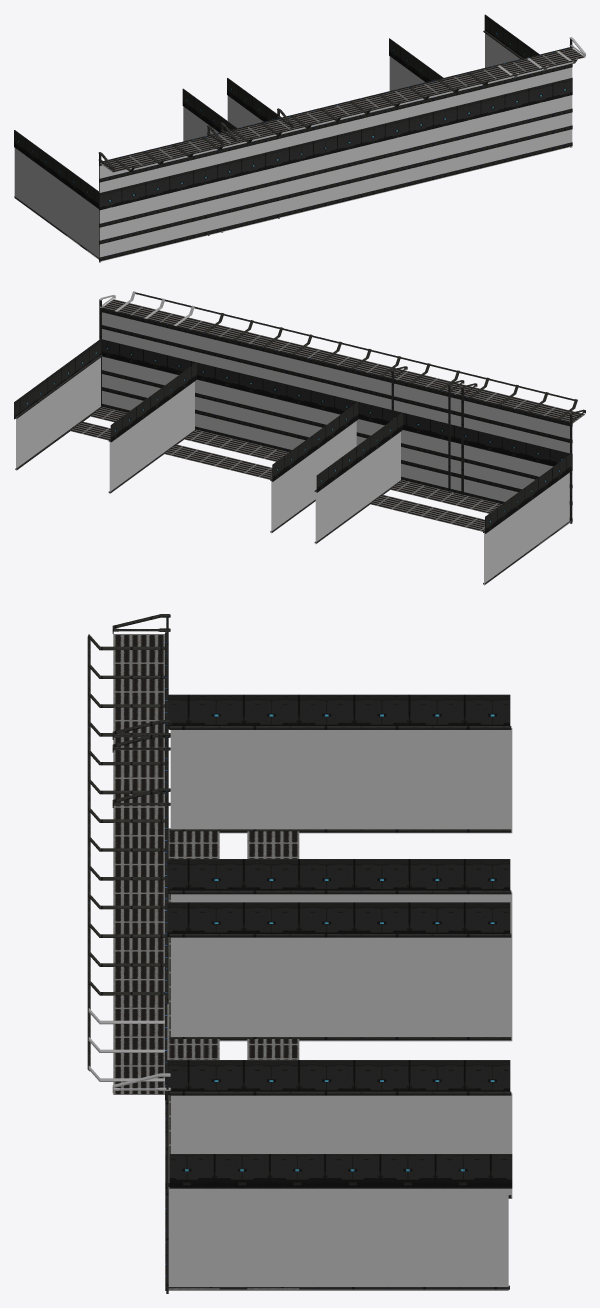
File: Ultra_wire2.fbx
The picture shows the model from 3 angles, top to bottom: view 1: azimuth 30°, elevation 25°; view 2: azimuth 150°, elevation 25°; view 3: azimuth 270°, elevation 25°; orthographic projection. The views are drawn at different scales.
Parts seen in each view (by area): view 1: polySurface351; view 2: polySurface351; view 3: polySurface351.
Boxes of the visible parts, left/top/right/bottom form: polySurface351: left=14, top=14, right=585, bottom=262; polySurface351: left=14, top=291, right=585, bottom=585; polySurface351: left=87, top=614, right=512, bottom=1293.
Bounding box in the file's own units: 50.04 × 11.05 × 19.48.
